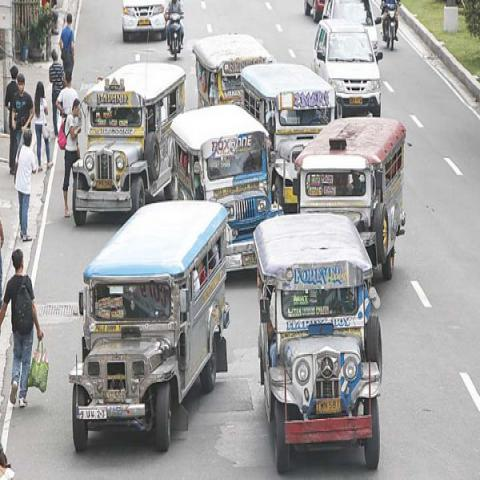car: (314, 15, 382, 122)
motorcycle: (384, 6, 402, 54), (168, 12, 184, 55)
truck: (70, 207, 228, 453), (254, 220, 380, 479), (70, 63, 186, 222), (296, 118, 406, 284), (176, 110, 278, 277), (243, 65, 337, 215)
